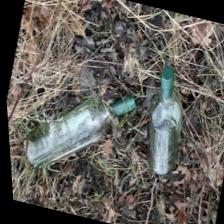glass: (11, 70, 147, 191), (132, 62, 201, 180)
